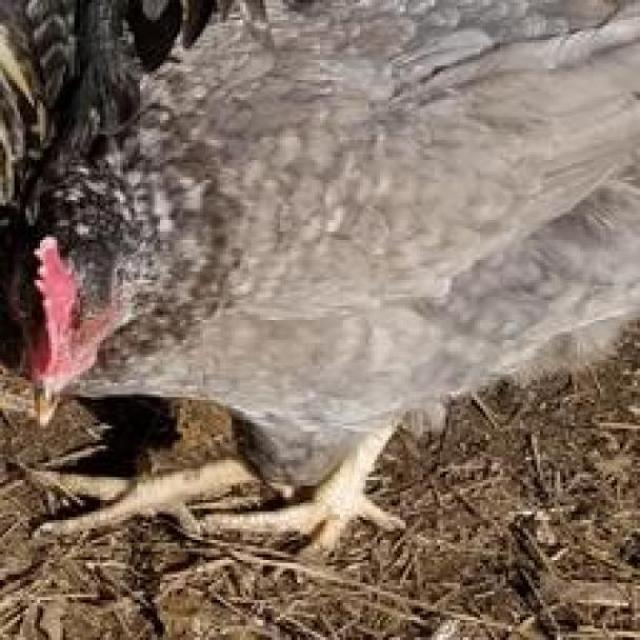Chicken: (17, 0, 640, 552)
